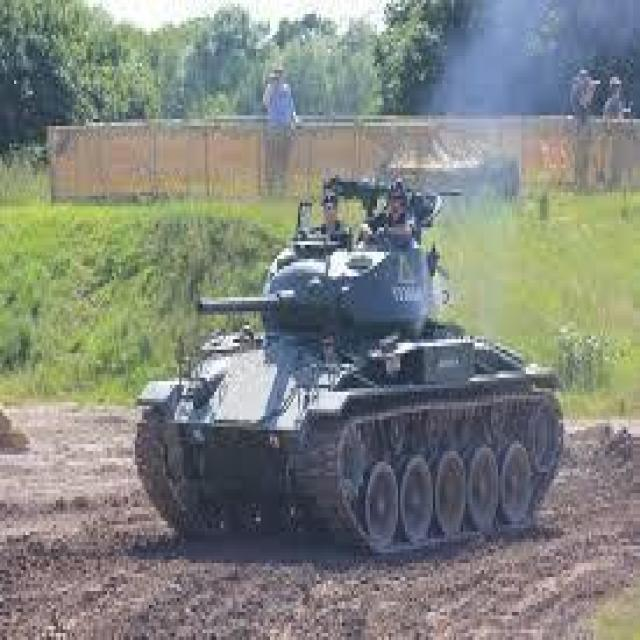MIL_MBT: (130, 163, 575, 568)
